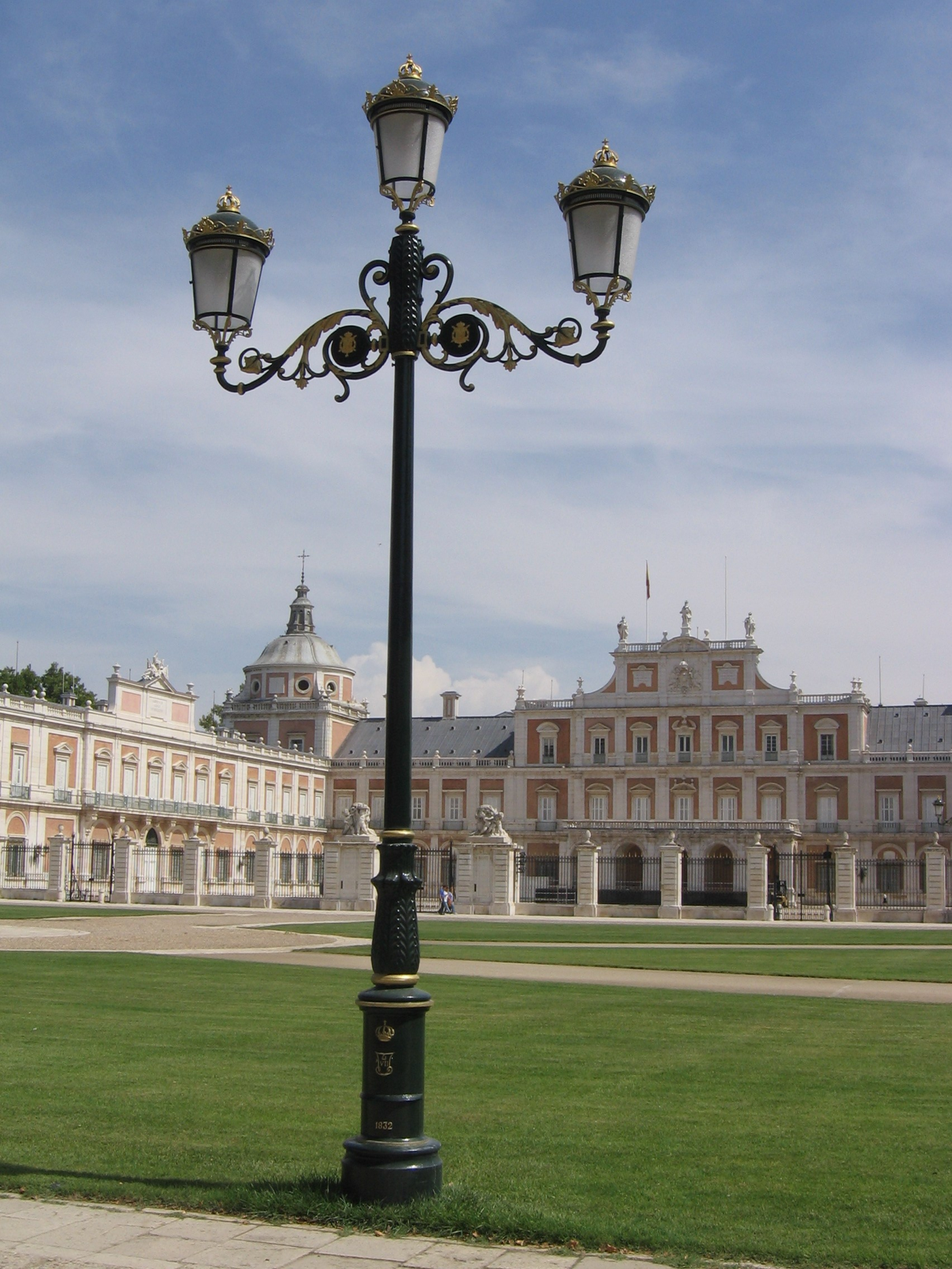fachada: (0, 559, 952, 928)
poste: (155, 56, 662, 1190)
